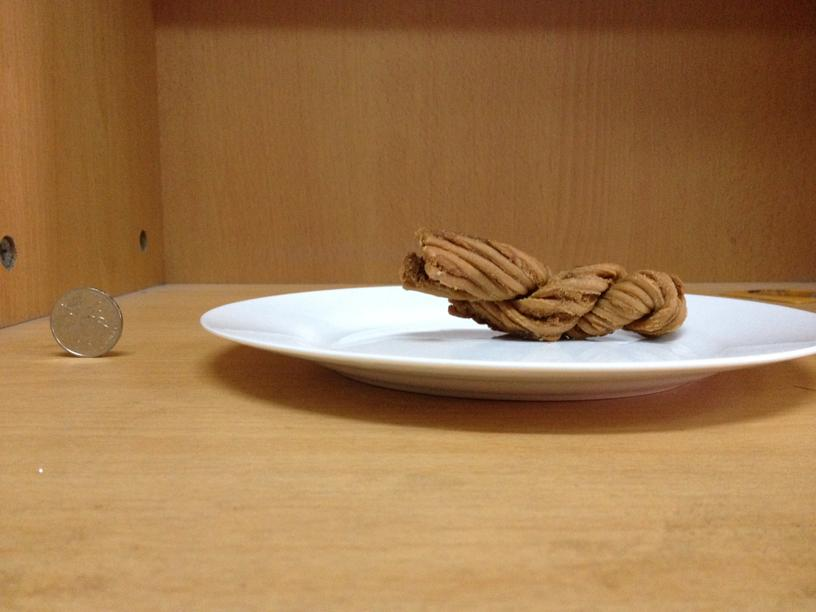coin: (48, 284, 123, 357)
fired_dough_twist: (401, 227, 686, 341)
